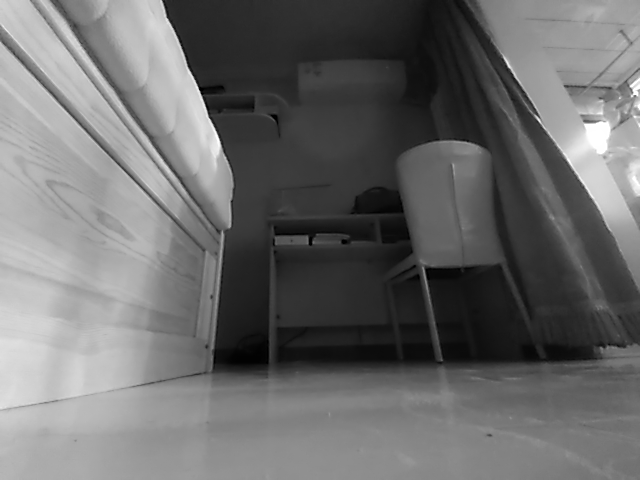curtain: (416, 1, 640, 349)
